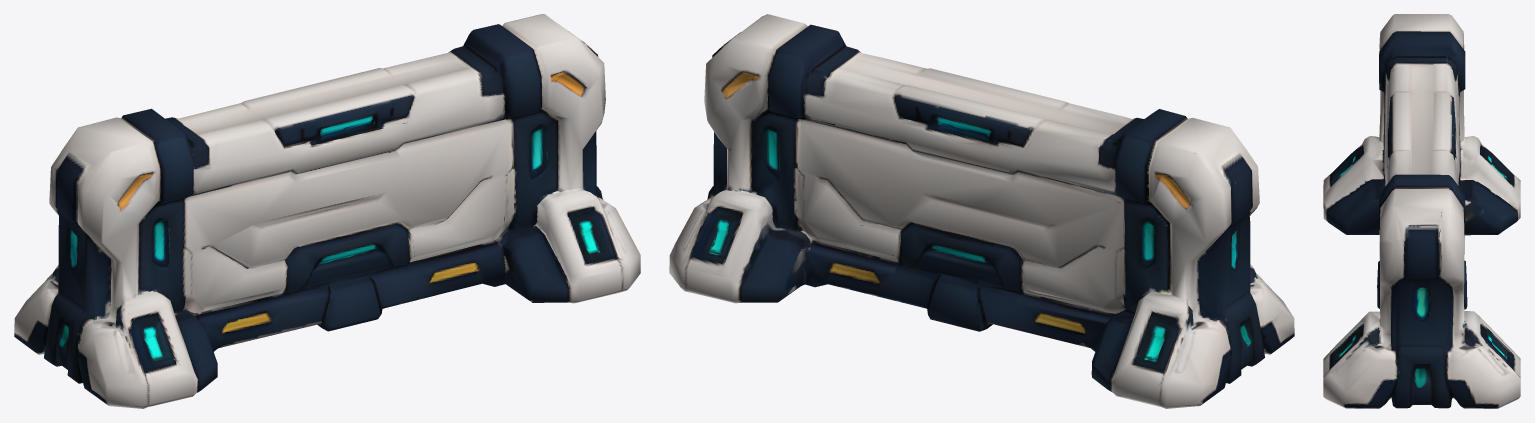
File: industrial-cover-barricade_LOD0.glb
3 renders of one model, left to right at view 1: azimuth 30°, elevation 25°; view 2: azimuth 150°, elevation 25°; view 3: azimuth 270°, elevation 25°, orthographic. The views are drawn at different scales.
Parts seen in each view (by area): view 1: industrial-cover-barricade_LOD0; view 2: industrial-cover-barricade_LOD0; view 3: industrial-cover-barricade_LOD0.
Boxes of the visible parts, x1,y1,x2,y2 form: industrial-cover-barricade_LOD0: (14,14,640,408); industrial-cover-barricade_LOD0: (669,14,1294,408); industrial-cover-barricade_LOD0: (1323,14,1520,408).
Size of the model in its own units: 2.45 by 0.9983 by 0.9284.
Materials: 1 (1 with a texture image).
